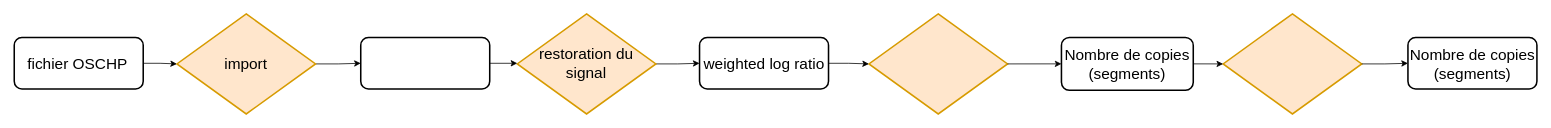
Some shapes in this 1551 by 128 pixel diagram are drawn without their labels. The shapes that lost their labels are listed below. From the top down, each one's centre as x and y in pixels, then its label:
point 425,62: log Ratio
point 938,63: Hidden Markov Model
point 1292,63: filtrage
